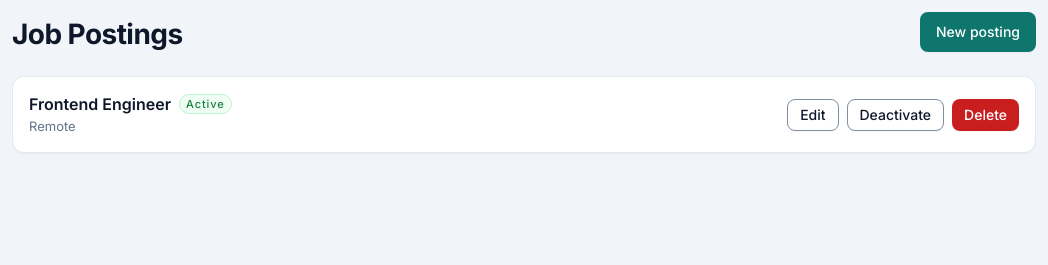
it: JobPostingsPage › deletes a job posting after confirmation
Expected: the text "Frontend Engineer" is shown, [29,93,171,115]
What coordinates should you click on to do the following:
click the button "Delete"
I would click on:
 (986, 115)
Its box is [952,99,1019,131].
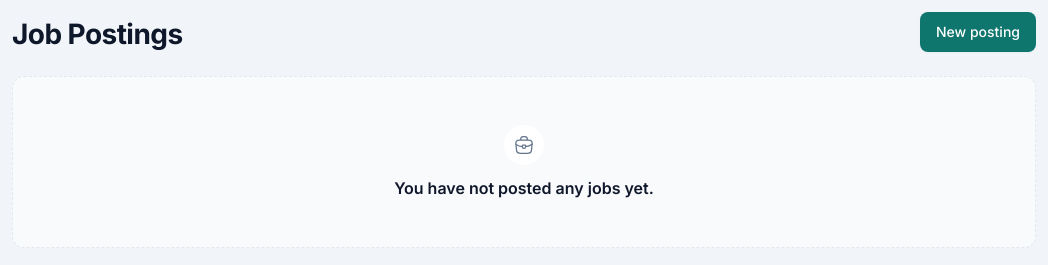
Now the text "You have not posted any jobs yet." is shown, box [394,177,654,199]
